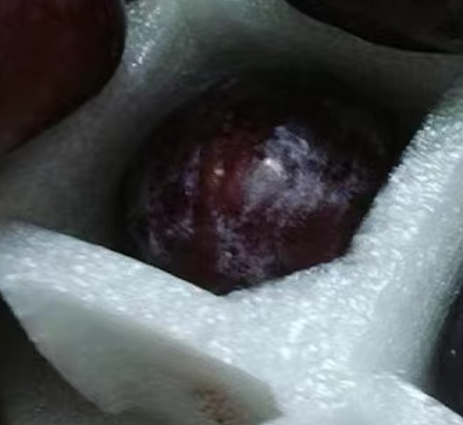plum_B: (120, 76, 399, 297)
